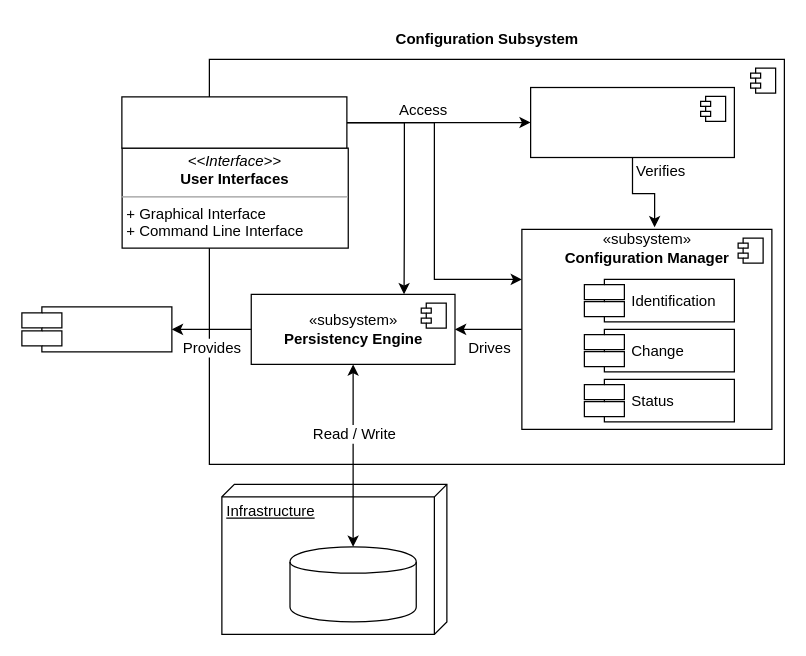
Some shapes in this 806 by 656 pixel diagram are drawn without their labels. Here are the shapes that lost their labels. From the top down, the centre of each, then its label:
At point (234, 122): "<<Interface>> Configuration interface".
At point (631, 122): "«subsystem» Audit System".
At point (96, 329): "Serialization".
At point (352, 584): "Configuration Database".
